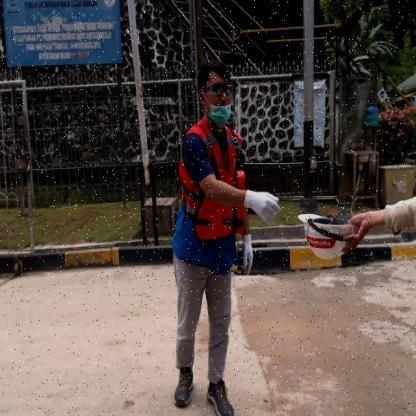boots: (206, 378, 235, 416), (172, 367, 194, 410)
gloves: (242, 187, 282, 228), (239, 232, 256, 278)
goggles: (206, 83, 233, 96)
helmet: (295, 211, 357, 265)
mask: (209, 102, 235, 130)
vest: (190, 164, 249, 240)
